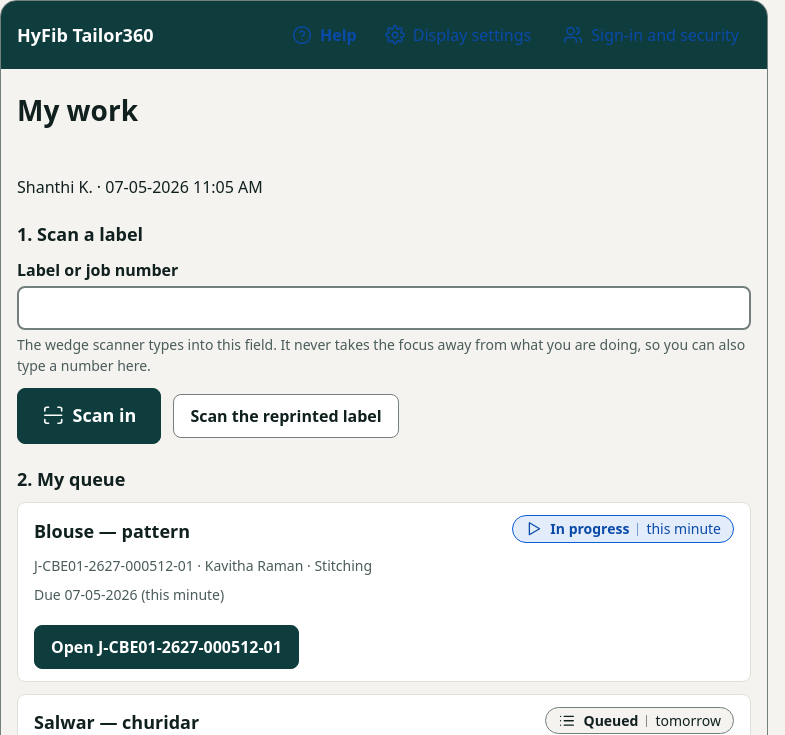
Test: A11Y-RJ-03 — Tailor: scan to queue › announces the job and the next expected action when a scan is accepted
Click the button "Open J-CBE01-2627-000512-01": (166, 647) [34,625,299,669]
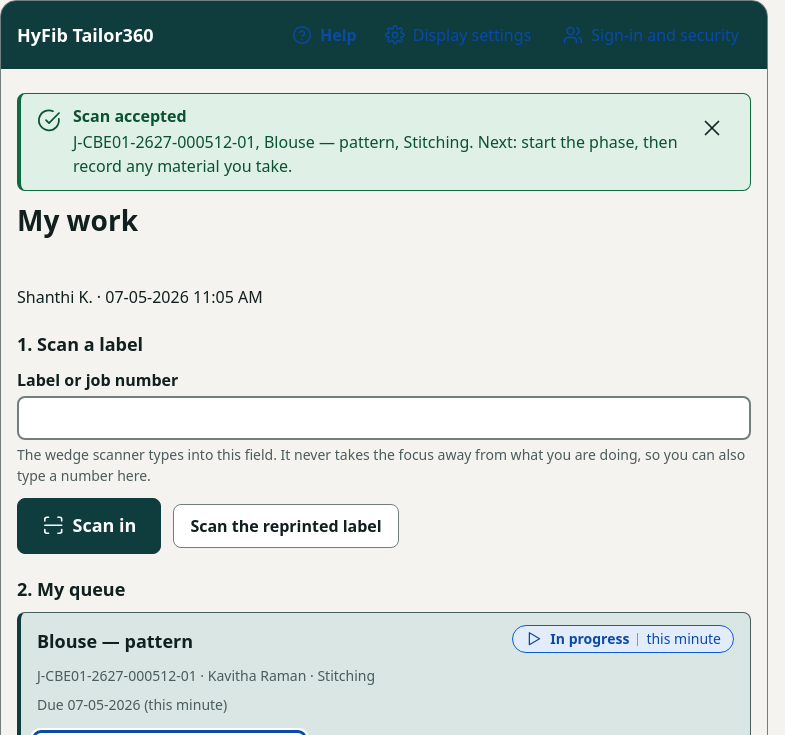
Expected: the text "J-CBE01-2627-000512-01" shows "Next: start the phase", [73,131,678,177]
